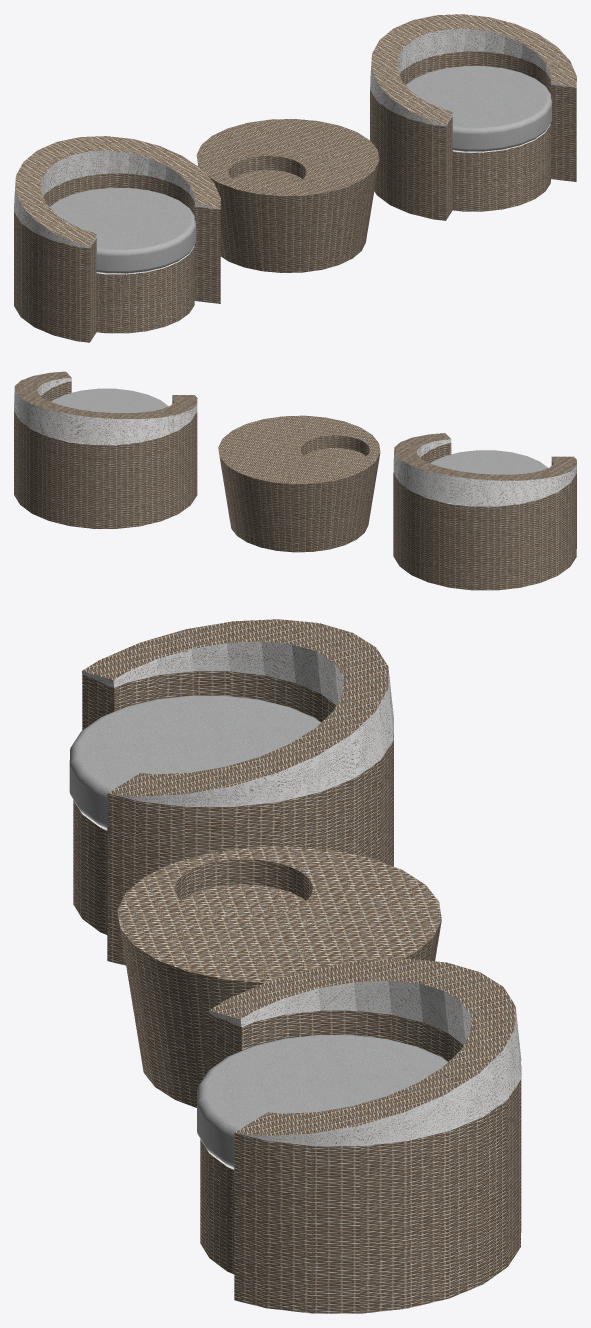
The model's file is furniture 8.dae.
3 views of the same model, one above another, from view 1: azimuth 30°, elevation 25°; view 2: azimuth 150°, elevation 25°; view 3: azimuth 270°, elevation 25° (orthographic). The views are drawn at different scales.
Visible parts, largest first — view 1: group_0 (×4), group_1 (×3), Component_1 (×2); view 2: group_0 (×2), group_1 (×3), Component_1 (×2); view 3: group_0 (×4), group_1 (×3), Component_1 (×2).
Part boxes in pixels (x1=…): group_0 (×4): x1=14, y1=14, x2=576, y2=342; group_1 (×3): x1=196, y1=119, x2=379, y2=272; Component_1 (×2): x1=49, y1=66, x2=551, y2=273; group_0 (×2): x1=14, y1=371, x2=576, y2=590; group_1 (×3): x1=218, y1=415, x2=380, y2=552; Component_1 (×2): x1=50, y1=388, x2=547, y2=474; group_0 (×4): x1=73, y1=619, x2=521, y2=1313; group_1 (×3): x1=117, y1=846, x2=441, y2=1107; Component_1 (×2): x1=69, y1=695, x2=447, y2=1167.
Bounding box in the file's own units: 99.73 × 38.49 × 20.8.
Materials: 3 (2 with a texture image).
